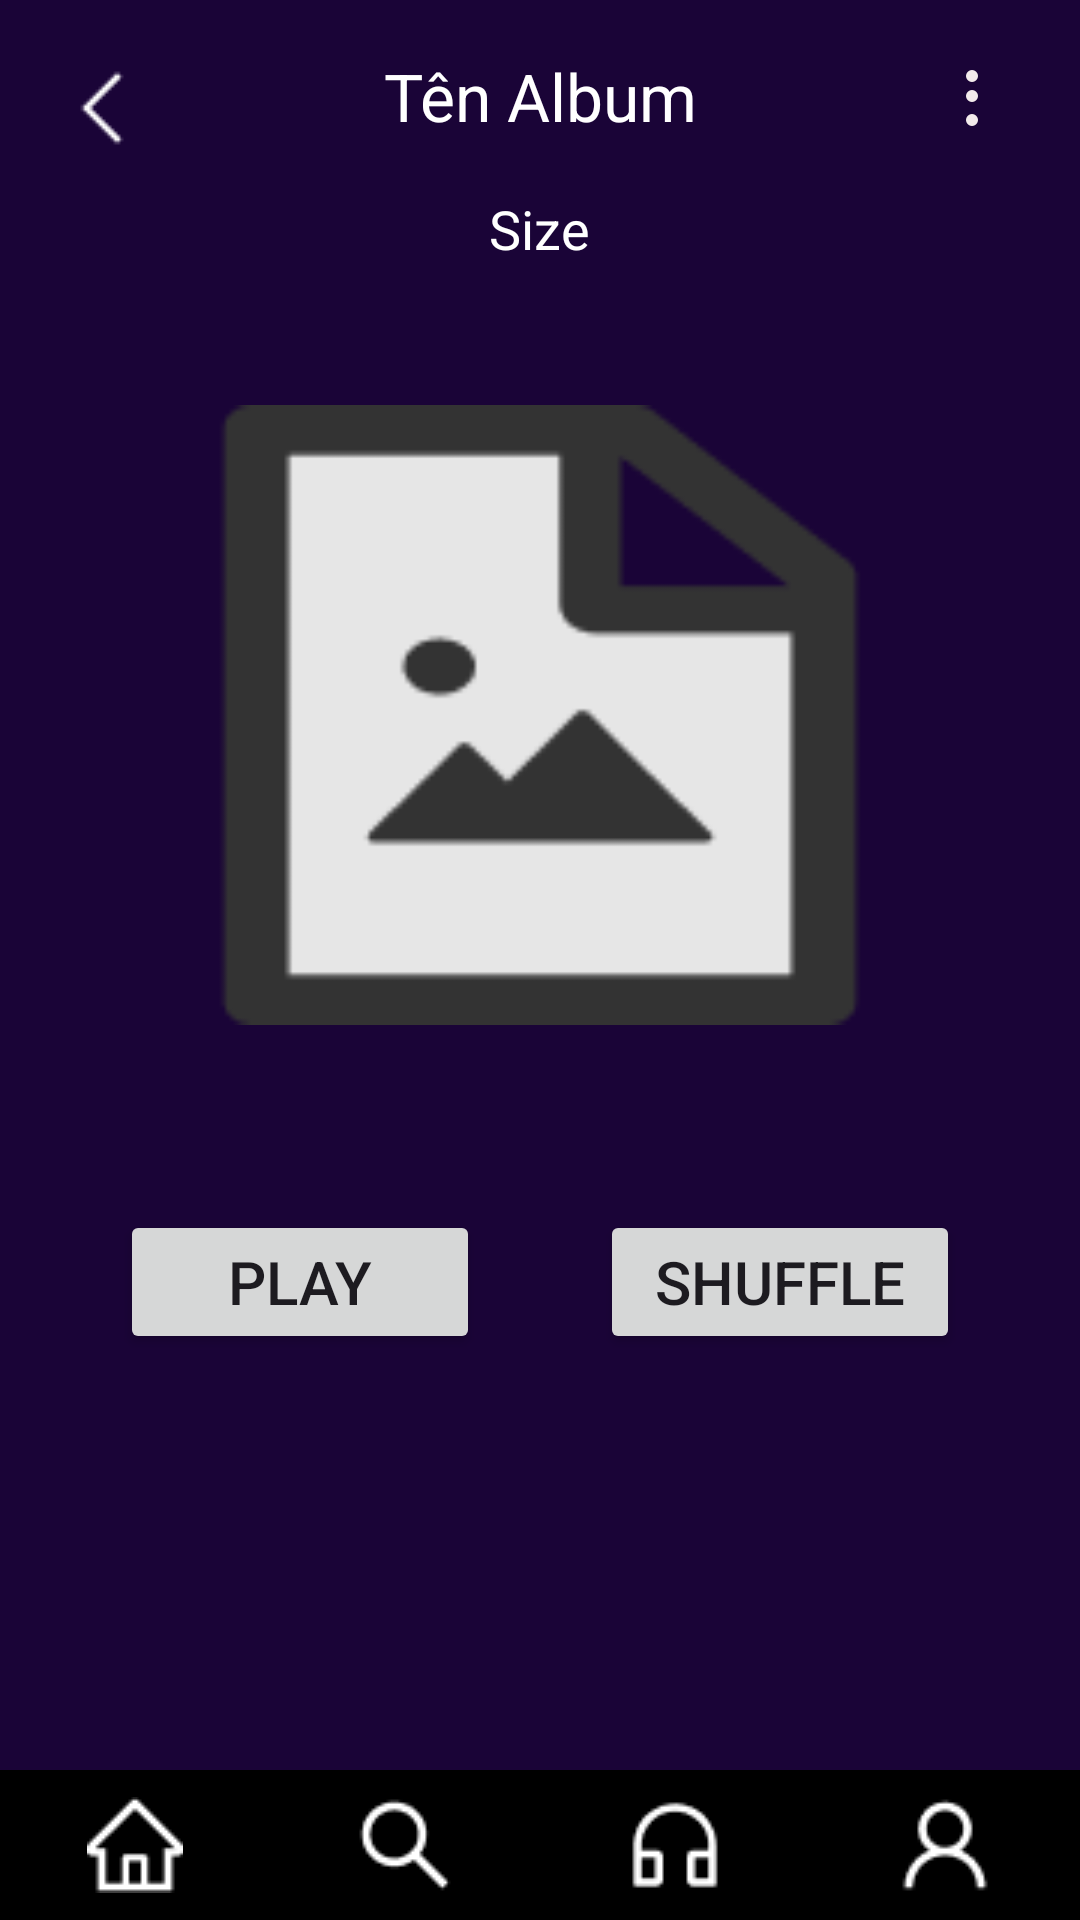

Named icons in this screenshot (1080*1920) and their centers, (x=x, y=y):
accounticon: (x=945, y=1845)
Go back to previous screen: (x=102, y=108)
headphoneimgbtn: (x=675, y=1845)
homebtnimg: (x=135, y=1845)
searchimgbtn: (x=404, y=1845)
